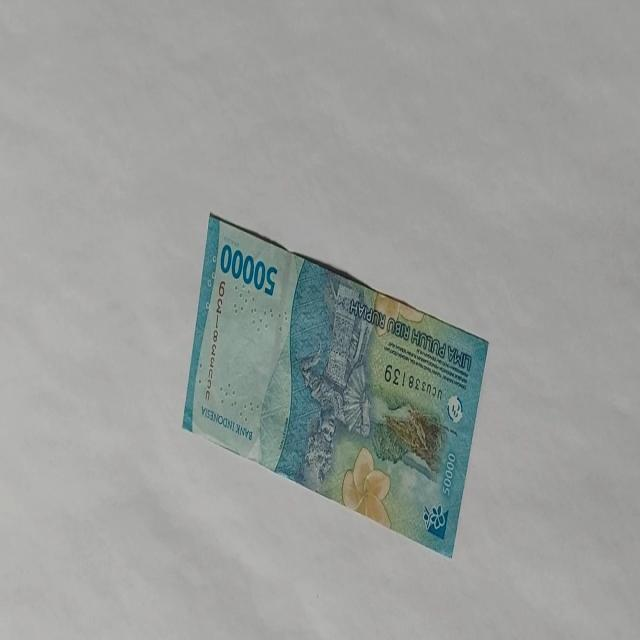lima puluh ribu rupiah: (181, 210, 490, 560), (218, 241, 278, 297)
